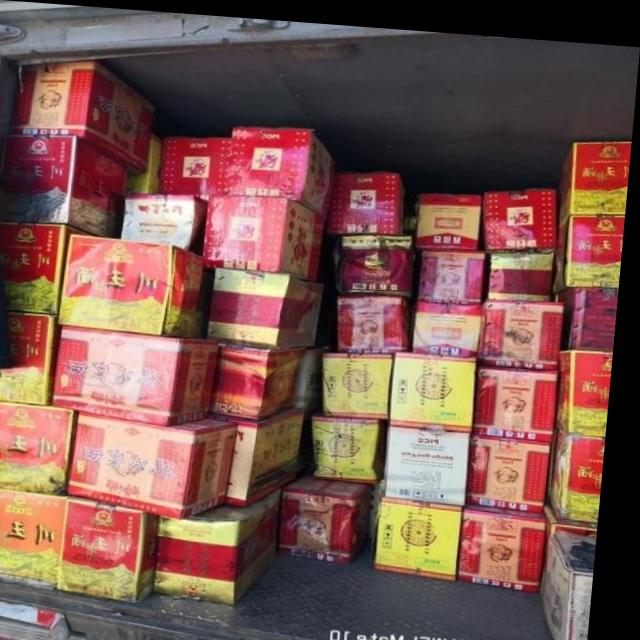box: (77, 410, 244, 515), (11, 59, 159, 170), (59, 324, 224, 422), (65, 233, 219, 335), (166, 483, 290, 602), (0, 135, 130, 237), (68, 494, 169, 601), (208, 191, 330, 275), (230, 122, 341, 212), (0, 222, 102, 314), (212, 264, 329, 344), (218, 405, 310, 501), (0, 401, 87, 494), (0, 488, 77, 589), (291, 470, 379, 557), (468, 496, 554, 584), (383, 491, 473, 572), (218, 340, 310, 415), (397, 345, 483, 424), (549, 521, 606, 640), (392, 420, 478, 498), (559, 131, 633, 221), (477, 427, 561, 504), (478, 358, 563, 434), (0, 313, 69, 405), (484, 292, 569, 360), (557, 206, 627, 286), (558, 418, 613, 513), (337, 229, 422, 290), (320, 410, 398, 475), (126, 191, 211, 250), (331, 164, 409, 228), (483, 180, 560, 244), (563, 340, 619, 427), (329, 348, 400, 413), (164, 133, 234, 196), (343, 290, 419, 347), (418, 293, 488, 353), (557, 279, 623, 341), (420, 186, 486, 243), (423, 244, 489, 296), (492, 244, 557, 293), (129, 132, 166, 192), (301, 342, 335, 404), (551, 492, 607, 528)
